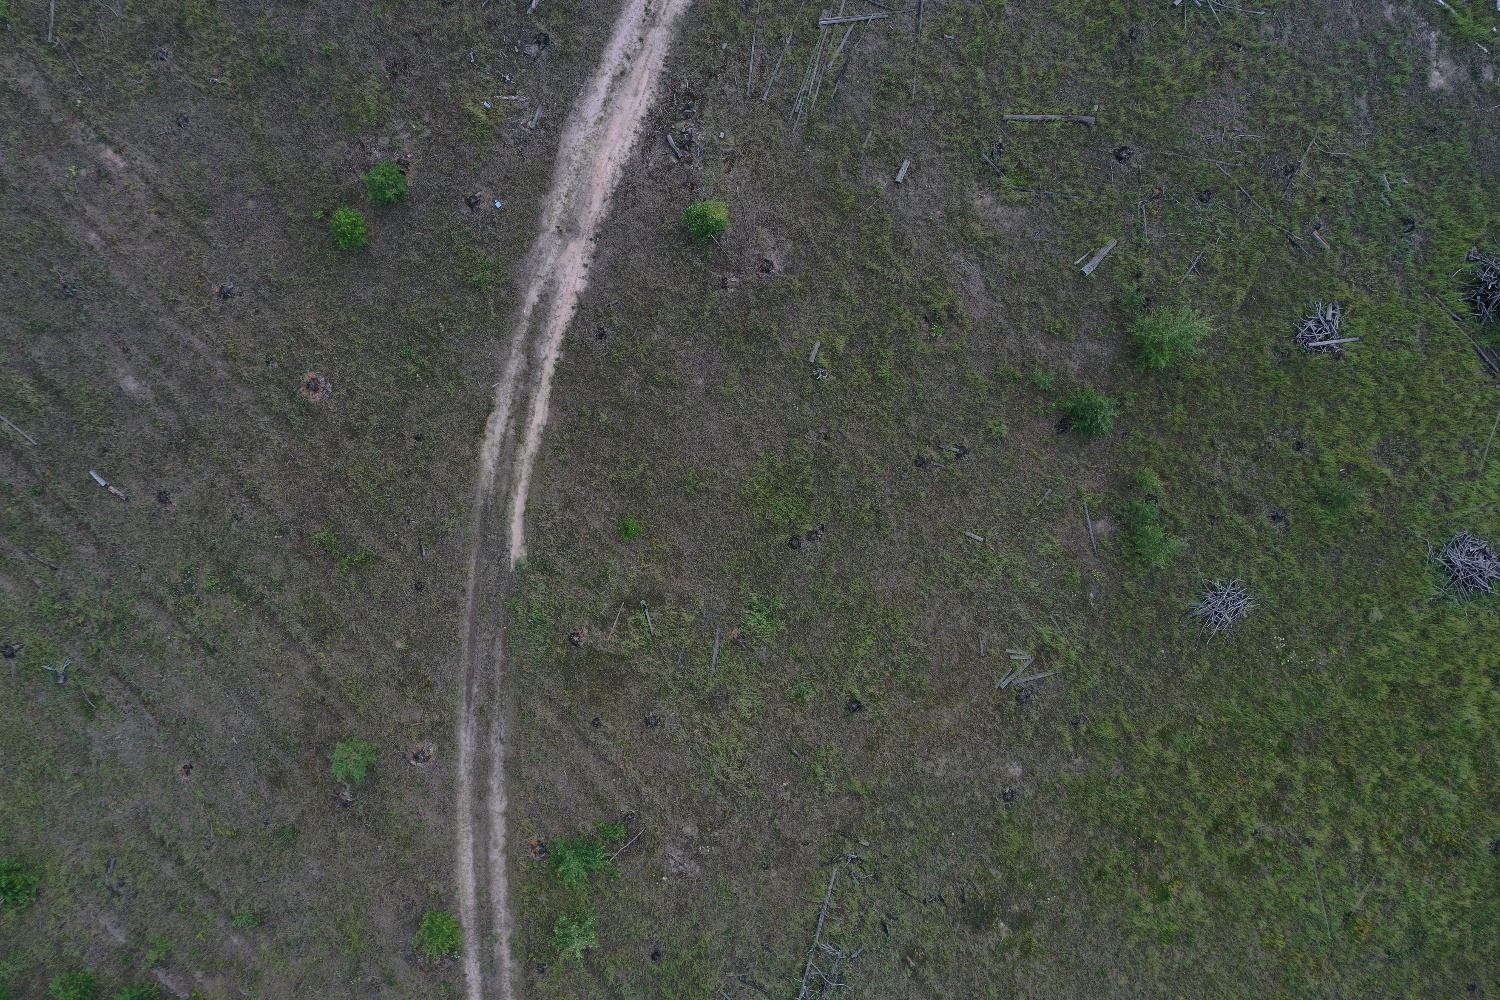branches: (1181, 566, 1260, 648), (1431, 530, 1500, 602), (1294, 299, 1360, 360), (1456, 247, 1500, 333)
